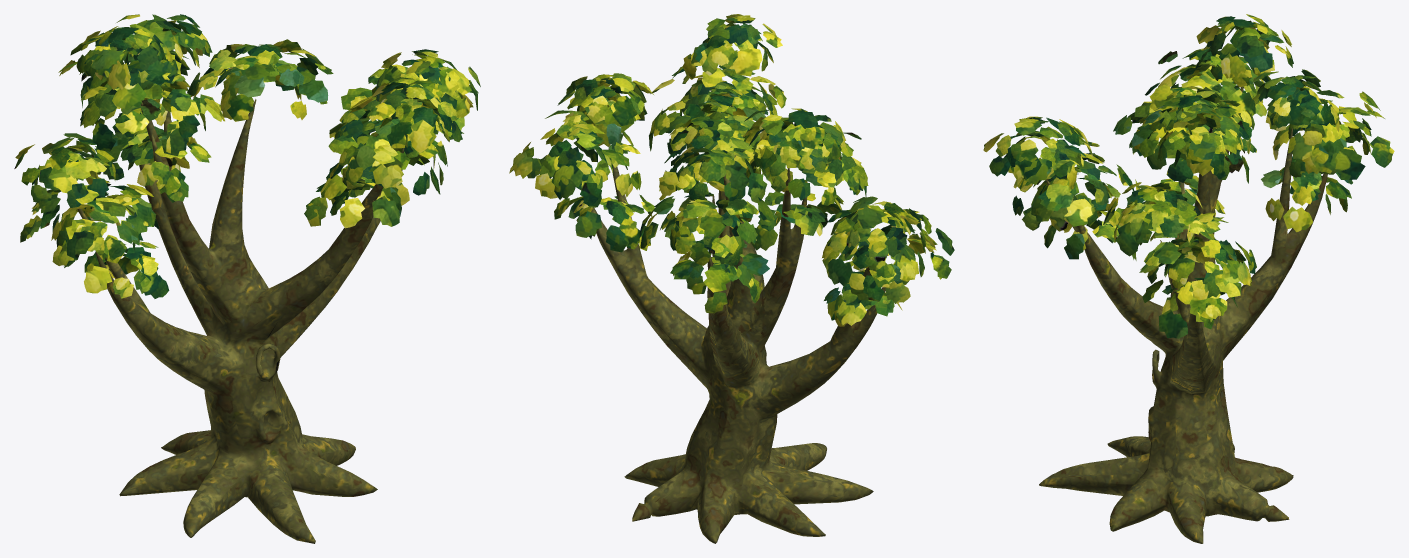
File: elder_oak_lod1.glb
3 views of the same model, side by side, from view 1: azimuth 30°, elevation 25°; view 2: azimuth 150°, elevation 25°; view 3: azimuth 270°, elevation 25° (orthographic). The views are drawn at different scales.
Parts seen in each view (by area): view 1: Leaves_LOD1, Trunk_LOD1; view 2: Leaves_LOD1, Trunk_LOD1; view 3: Leaves_LOD1, Trunk_LOD1.
Boxes of the visible parts, x1=… form: Leaves_LOD1: x1=14, y1=14, x2=480, y2=298; Trunk_LOD1: x1=77, y1=99, x2=404, y2=543; Leaves_LOD1: x1=509, y1=14, x2=954, y2=326; Trunk_LOD1: x1=583, y1=106, x2=885, y2=543; Leaves_LOD1: x1=983, y1=14, x2=1394, y2=338; Trunk_LOD1: x1=1039, y1=86, x2=1327, y2=543.
Size of the model in its own units: 6.55 by 6.38 by 5.48.
2 materials, 2 textured.
